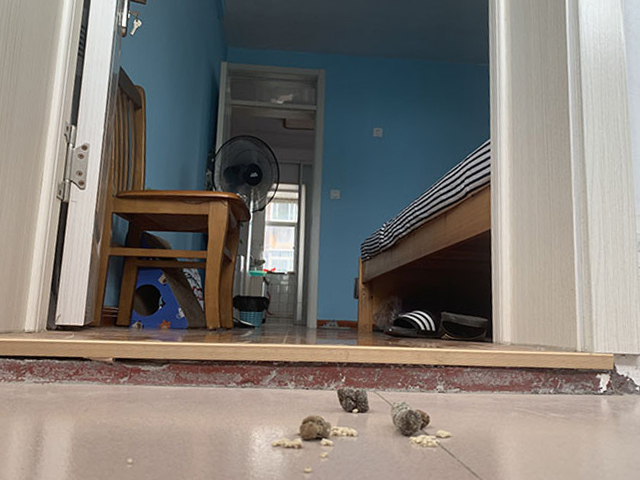bed: (357, 136, 492, 338)
feces: (389, 399, 432, 437), (296, 413, 333, 442), (337, 386, 372, 415)
slippers: (383, 306, 444, 341), (442, 308, 494, 337), (317, 319, 351, 332)
stool: (90, 67, 251, 331)
trash can: (233, 294, 271, 329)
